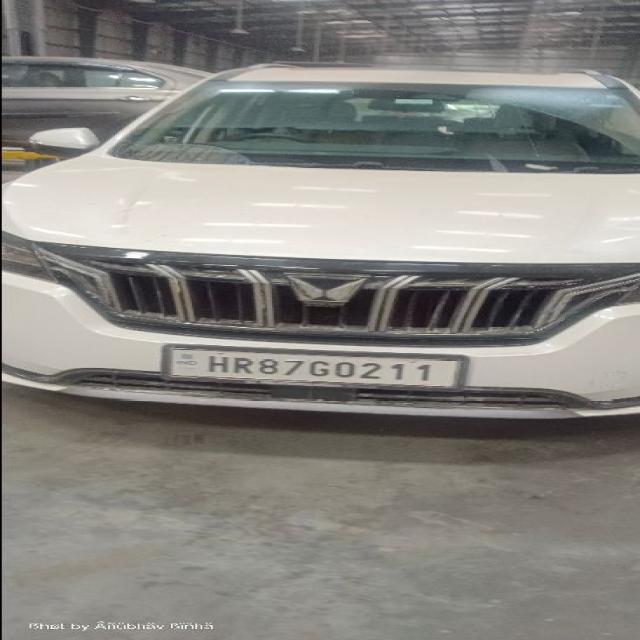license_plate: (159, 342, 469, 390)
